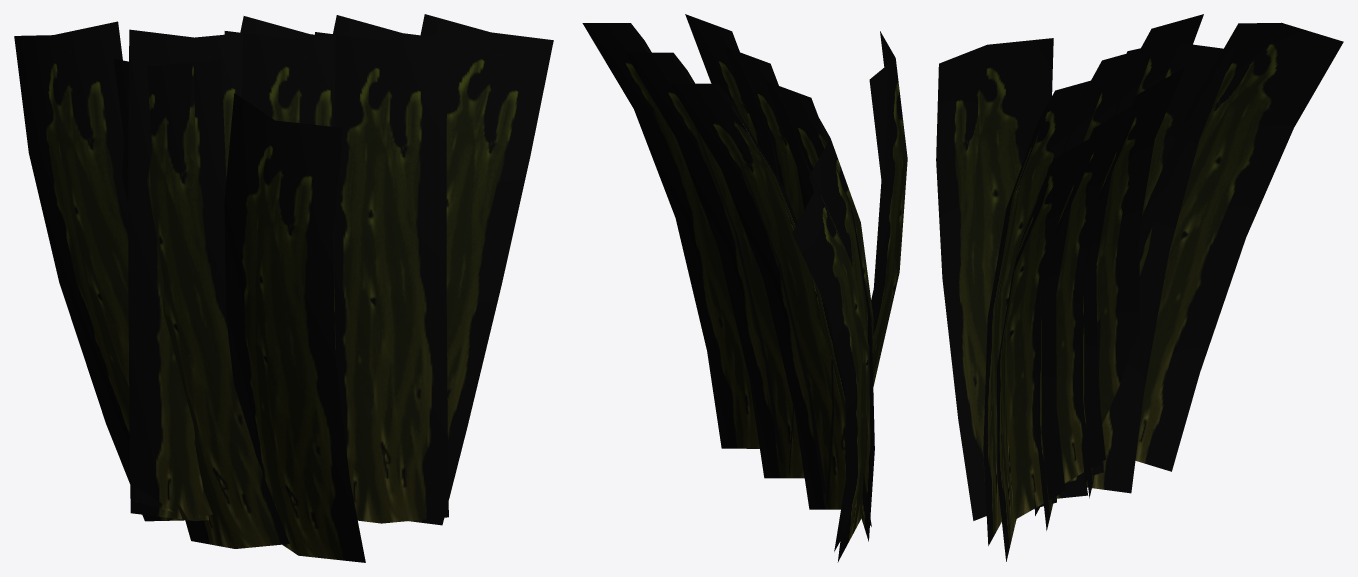
File: GrimyWeed.fbx
3 views of the same model, side by side, from view 1: azimuth 30°, elevation 25°; view 2: azimuth 150°, elevation 25°; view 3: azimuth 270°, elevation 25° (orthographic). The views are drawn at different scales.
Parts seen in each view (by area): view 1: pPlane36; view 2: pPlane36; view 3: pPlane36.
Part boxes in pixels (x1,y1,x2,y2): pPlane36: (14,14,553,562); pPlane36: (582,14,907,562); pPlane36: (936,14,1343,561).
Size of the model in its own units: 0.8931 by 1.07 by 0.8371.
